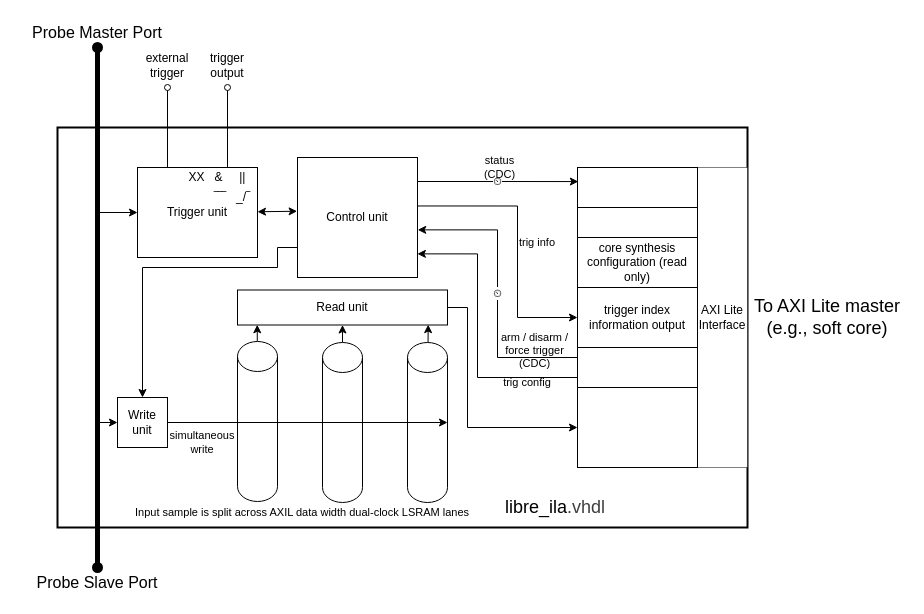
This 924x614 diagram has some shape labels left out. The shapes that lost their labels are listed below. From the top down, each one's centre as x and y in pixels, then its label:
At [637,187]: "status".
At [637,222]: "magic key".
At [637,367]: "trigger configuration & switches".
At [637,427]: "sample buffer (remapped RAM lanes)".
